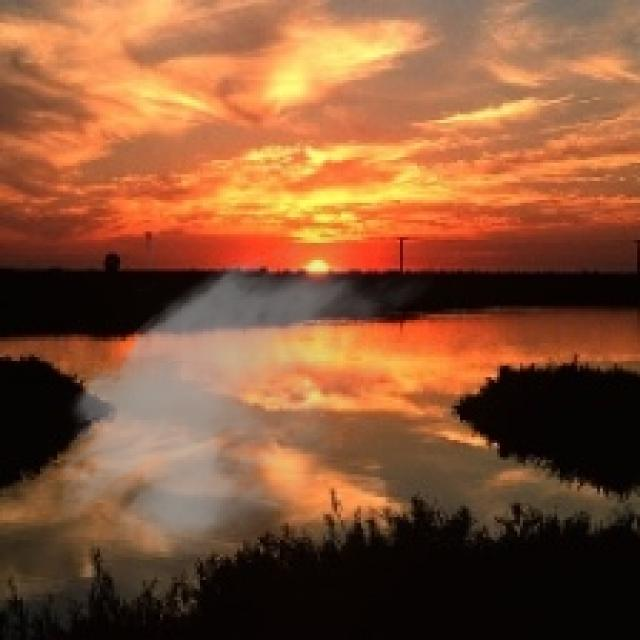smoke: (46, 223, 434, 574)
